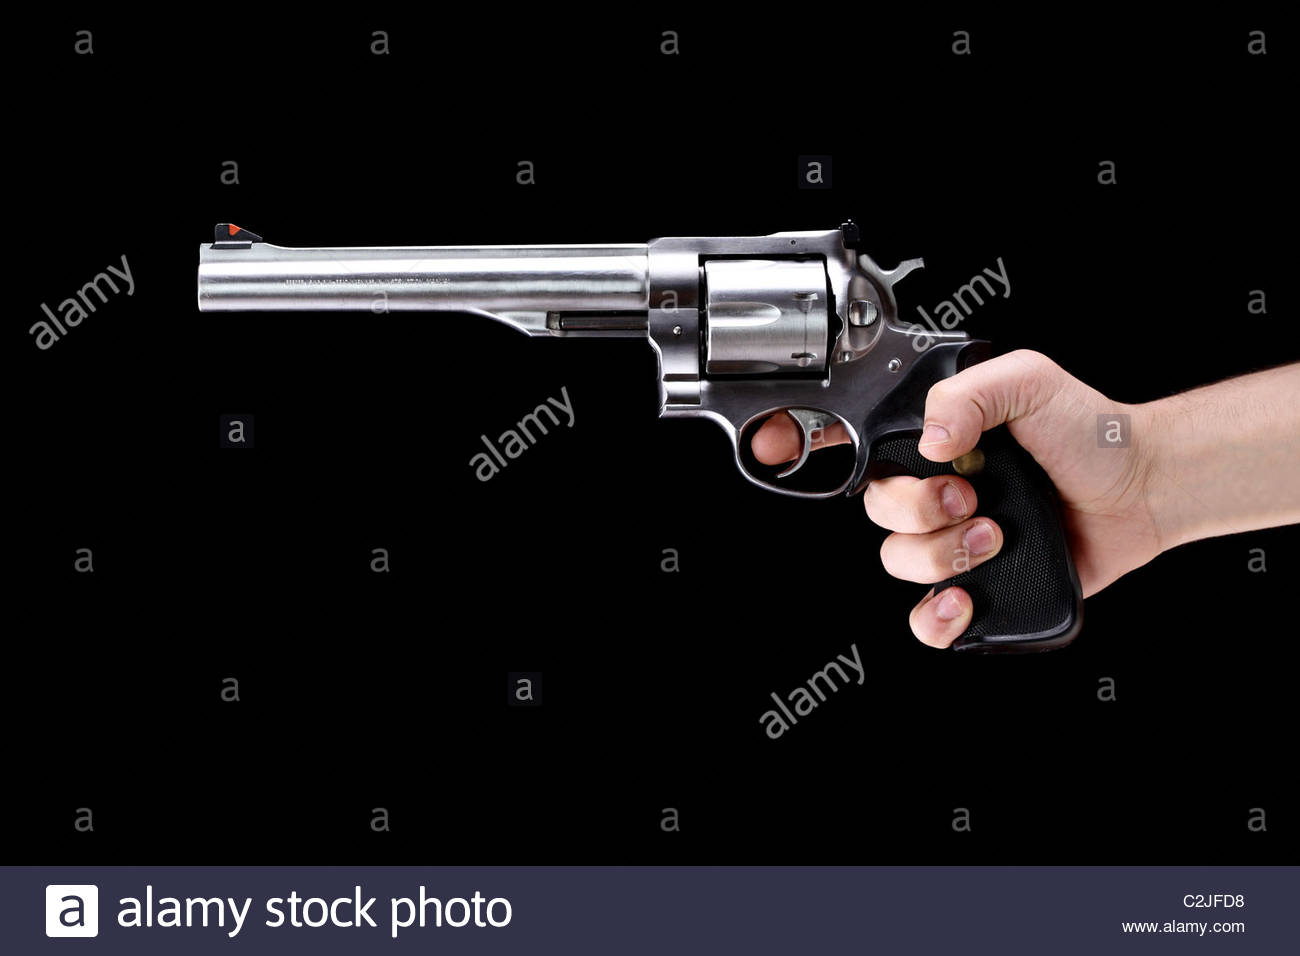Revolver: (151, 161, 1105, 699)
